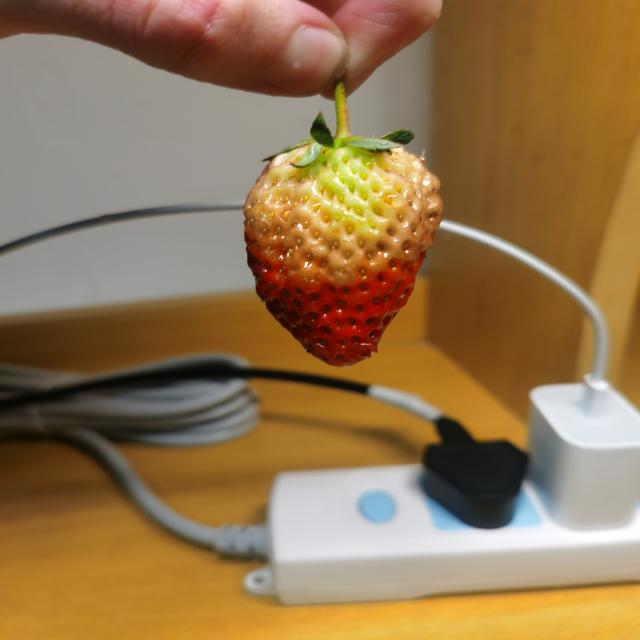stem: (332, 87, 354, 143)
strawberry: (244, 137, 443, 368)
